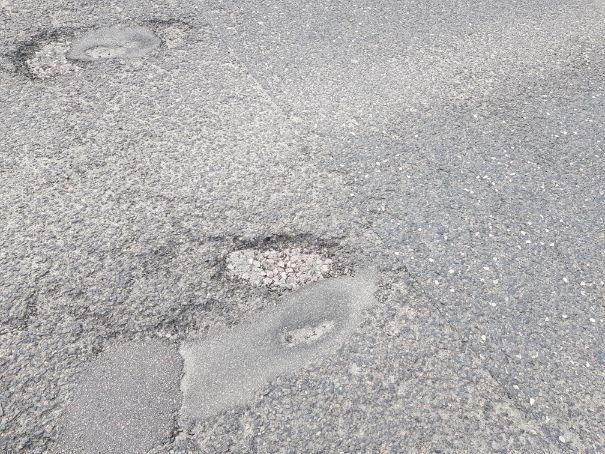pothole: (13, 13, 201, 83), (212, 224, 361, 297)
